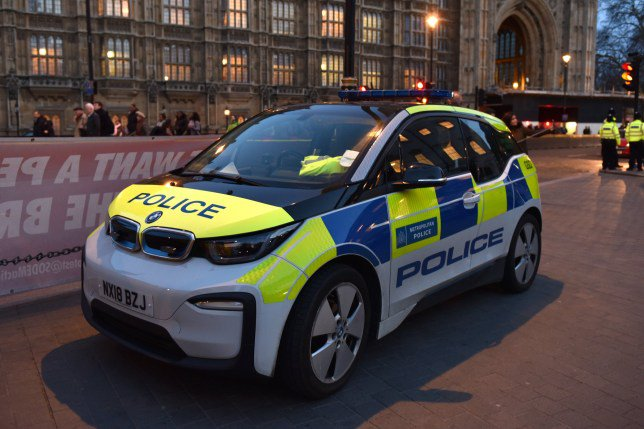car: (81, 86, 550, 392)
